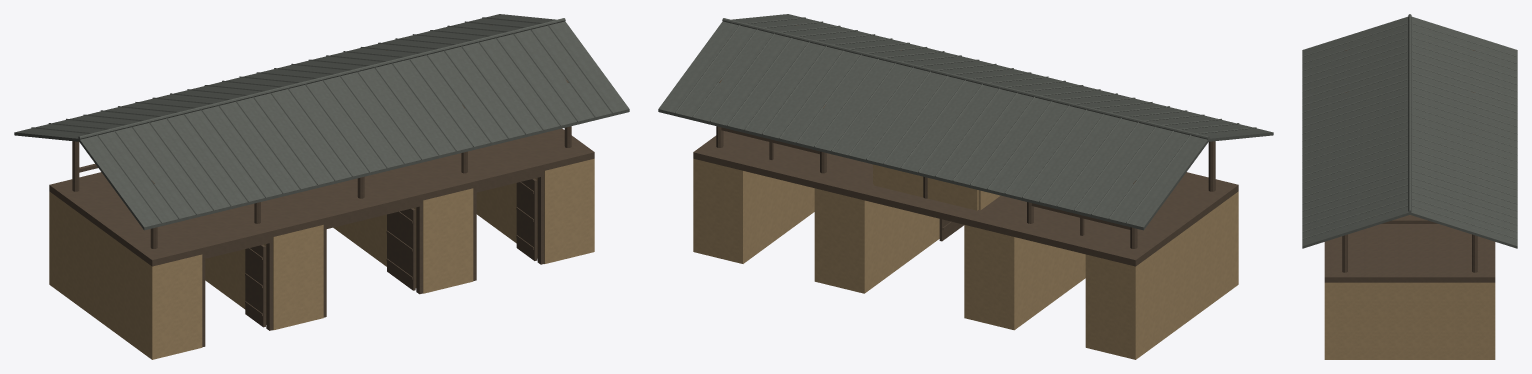
File: kaiyang-K-LOD1.glb
3 renders of one model, left to right at view 1: azimuth 30°, elevation 25°; view 2: azimuth 150°, elevation 25°; view 3: azimuth 270°, elevation 25°, orthographic. The views are drawn at different scales.
Visible parts, largest first — view 1: kaiyang-K-static_tile, kaiyang-K-static_earth, kaiyang-K-static_timber; view 2: kaiyang-K-static_tile, kaiyang-K-static_earth, kaiyang-K-static_timber; view 3: kaiyang-K-static_tile, kaiyang-K-static_earth, kaiyang-K-static_timber.
Part boxes in pixels (<box>): kaiyang-K-static_tile: <box>14,14,629,230</box>; kaiyang-K-static_earth: <box>49,158,594,359</box>; kaiyang-K-static_timber: <box>49,25,594,347</box>; kaiyang-K-static_tile: <box>658,14,1273,230</box>; kaiyang-K-static_earth: <box>693,158,1238,359</box>; kaiyang-K-static_timber: <box>693,25,1238,266</box>; kaiyang-K-static_tile: <box>1302,14,1517,248</box>; kaiyang-K-static_earth: <box>1324,282,1495,359</box>; kaiyang-K-static_timber: <box>1324,50,1495,282</box>.
Bounding box in the file's own units: 27.2 × 10.23 × 12.62.
Materials: 3 (3 with a texture image).
